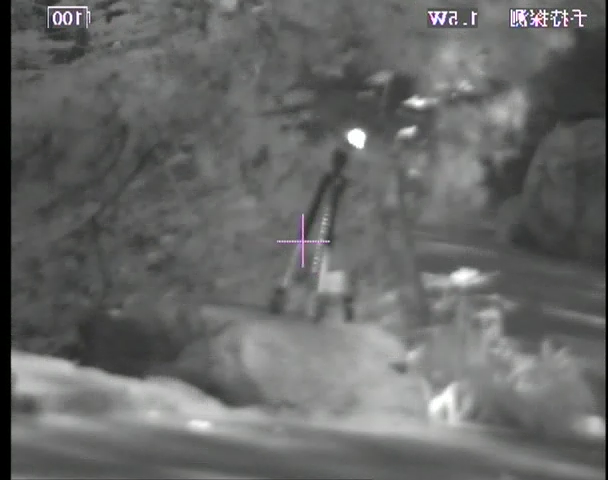my: (346, 128, 368, 149)
